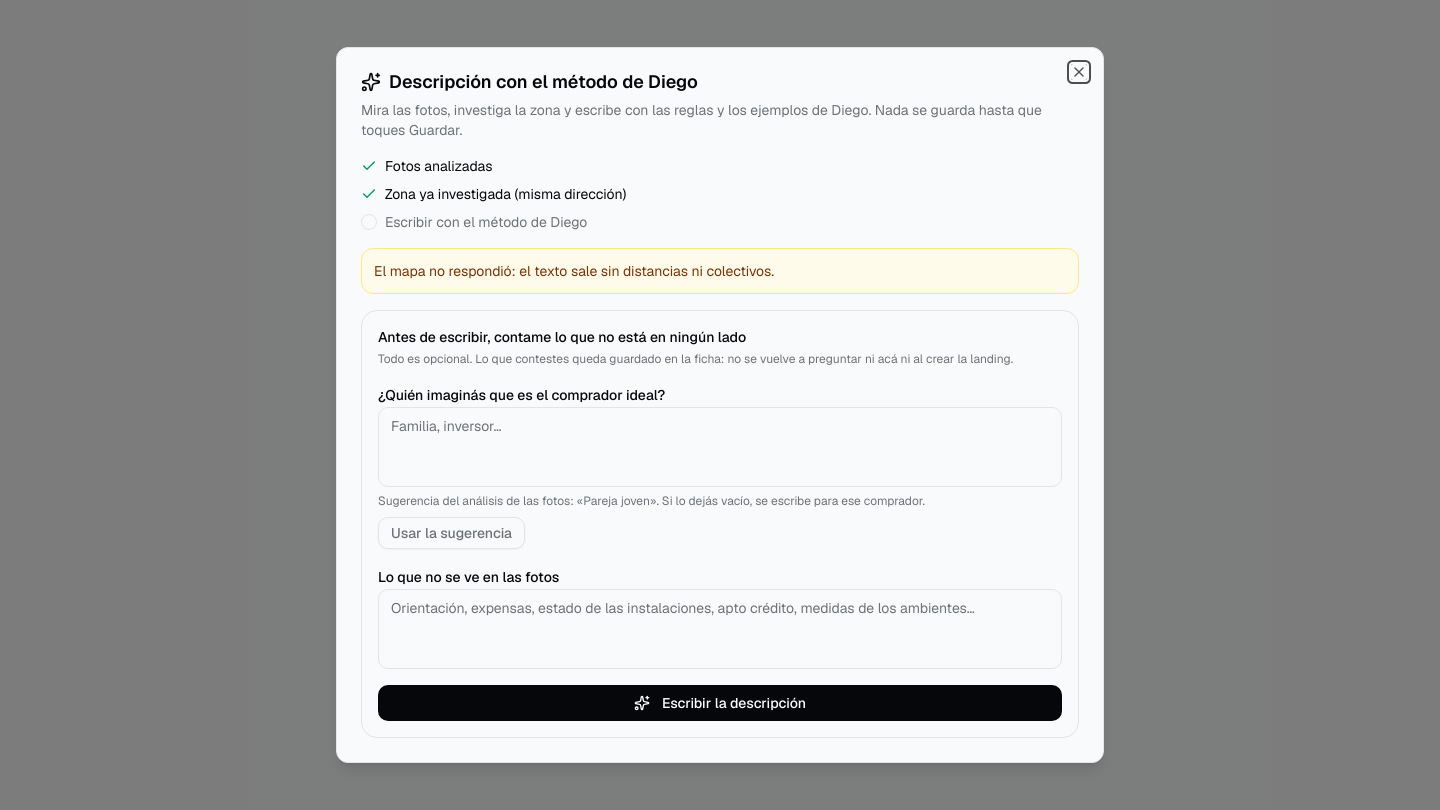
Test case: GenerarDescripcionPanel — recorrido completo › si el comprador queda vacío no se manda como respuesta (la sugerencia no se guarda como si la hubiera dicho el asesor)
The width and height of the screenshot is (1440, 810).
Expected: the text box labelled "¿Quién imaginás que es el comprador ideal?" is shown, 378,407 -> 1062,487
Expected: the text "Escribir con el método de Diego" is shown, 385,212 -> 587,232
Step 1. Click the button "Escribir la descripción" → (720, 703), box 378,685 -> 1062,721
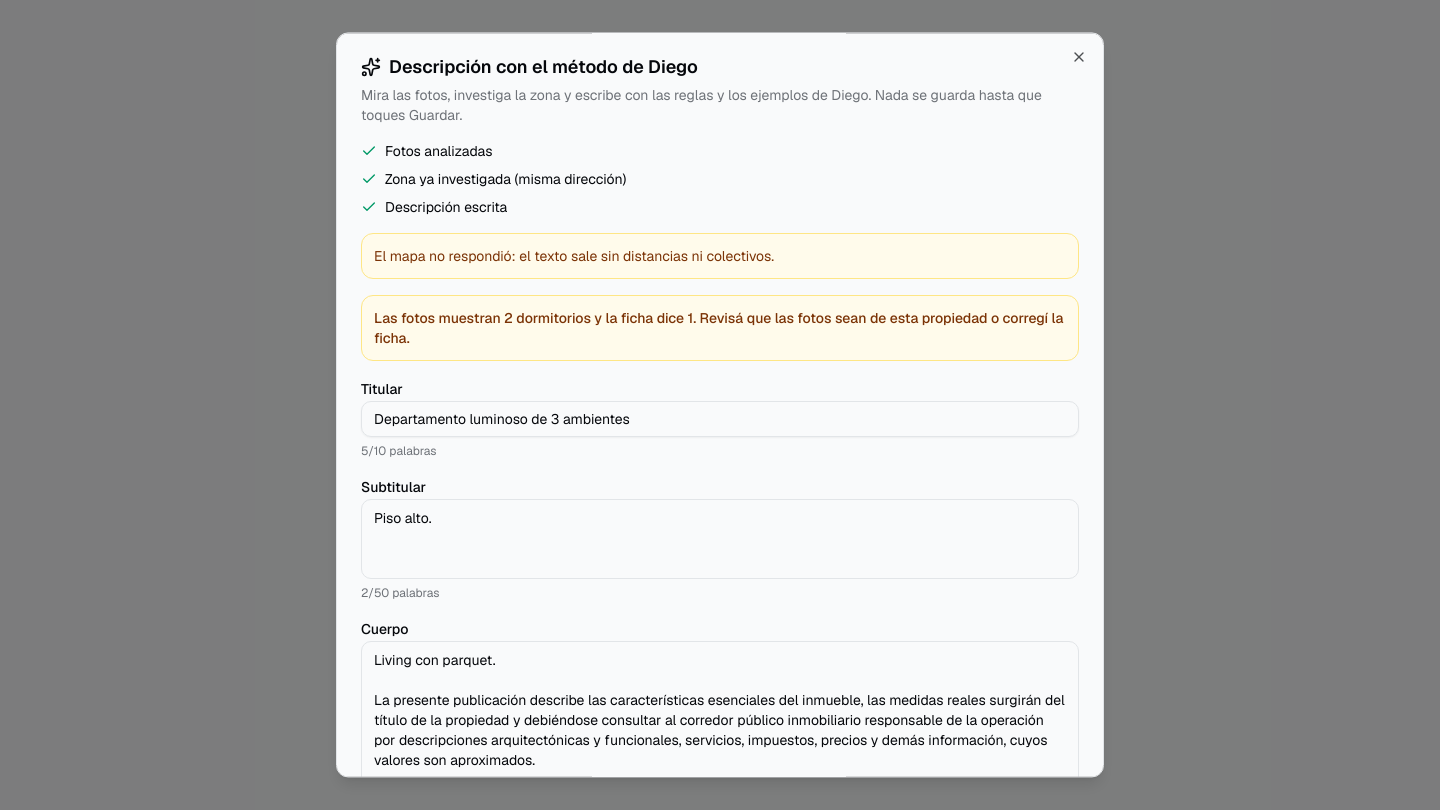
Expected: the field showing "Departamento luminoso de 3 ambientes" is shown, 361,401 -> 1079,437
